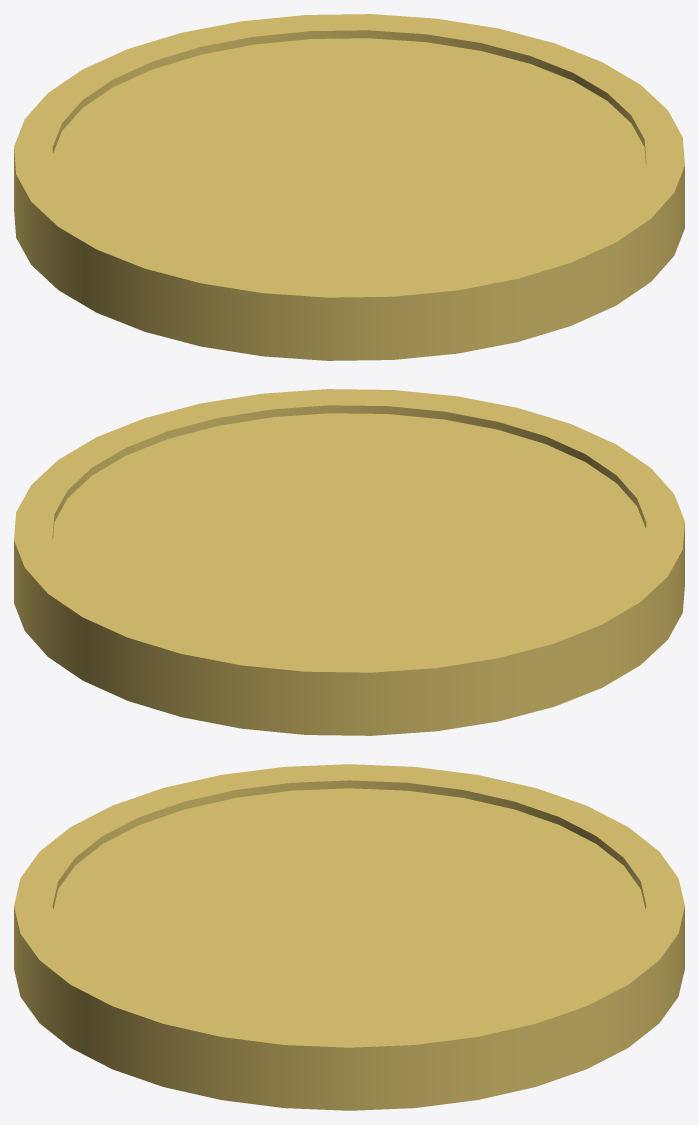
File: coin.glb
3 views of the same model, one above another, from view 1: azimuth 30°, elevation 25°; view 2: azimuth 150°, elevation 25°; view 3: azimuth 270°, elevation 25° (orthographic).
Parts seen in each view (by area): view 1: coin_low; view 2: coin_low; view 3: coin_low.
Part boxes in pixels (left/top/right/bottom): coin_low: left=14, top=14, right=684, bottom=360; coin_low: left=14, top=389, right=684, bottom=735; coin_low: left=14, top=764, right=684, bottom=1110.
Bounding box in the file's own units: 1.97 × 0.2042 × 1.97.
Materials: 1 (1 with a texture image).
